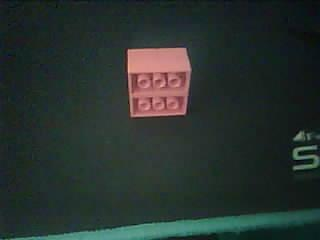lego: (126, 47, 192, 117)
